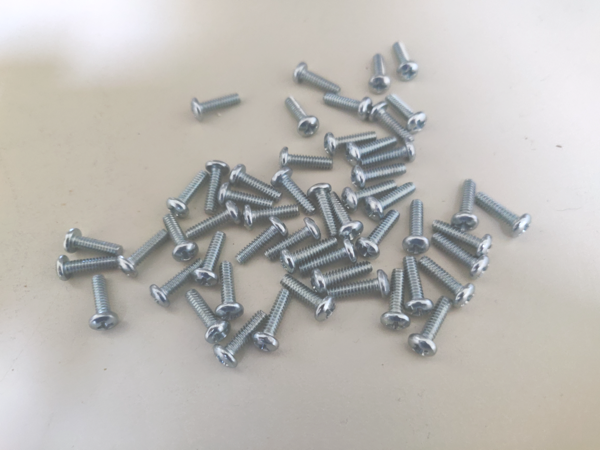shortscrew: (213, 311, 269, 370), (418, 256, 476, 308), (149, 259, 204, 308), (280, 274, 336, 322), (264, 217, 322, 263), (117, 229, 170, 279), (408, 297, 452, 357), (431, 233, 490, 277), (476, 192, 532, 238), (252, 288, 292, 352), (235, 217, 289, 264), (186, 290, 231, 344), (297, 238, 359, 277), (186, 201, 243, 241), (357, 210, 401, 261), (433, 219, 492, 257), (186, 201, 243, 240), (280, 237, 339, 273), (271, 168, 316, 215), (311, 262, 373, 296), (166, 171, 210, 218), (364, 183, 418, 221), (230, 164, 282, 202), (327, 270, 391, 300), (192, 231, 226, 287), (370, 102, 415, 144), (381, 269, 411, 331), (162, 213, 199, 263), (328, 191, 364, 242), (64, 228, 123, 258), (342, 180, 398, 211), (56, 254, 119, 281), (215, 262, 244, 320), (386, 93, 427, 134), (306, 184, 337, 238), (360, 140, 417, 169), (89, 276, 118, 332), (191, 92, 242, 123), (243, 203, 301, 230), (403, 199, 430, 256), (295, 63, 341, 95), (285, 97, 320, 138), (352, 163, 407, 189), (452, 180, 479, 232), (324, 131, 378, 157), (205, 160, 230, 214), (324, 93, 372, 121), (218, 184, 274, 208), (279, 147, 333, 171), (393, 42, 419, 82), (369, 54, 391, 95)
